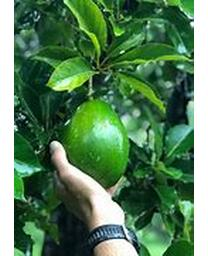avocado: (62, 97, 130, 191)
